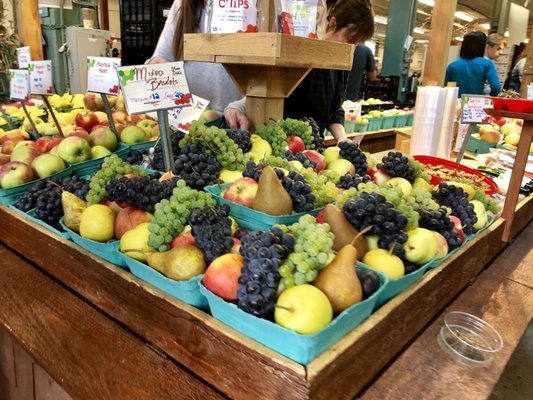steak: (0, 92, 156, 190)
